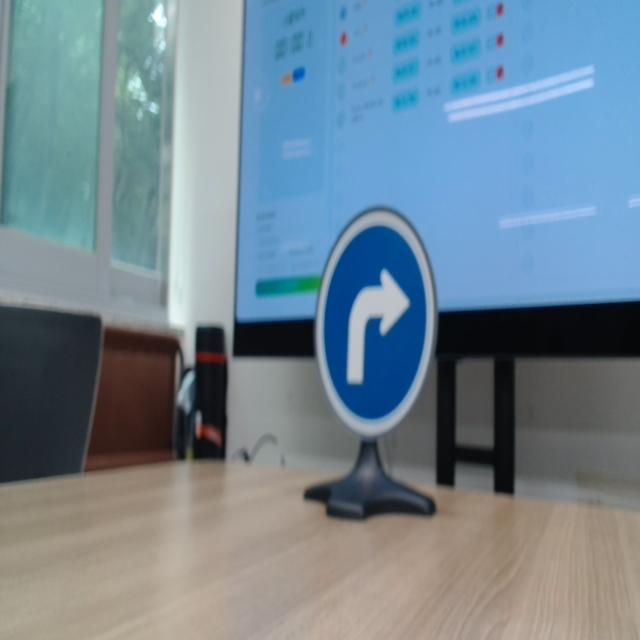right_dierection: (302, 197, 450, 462)
